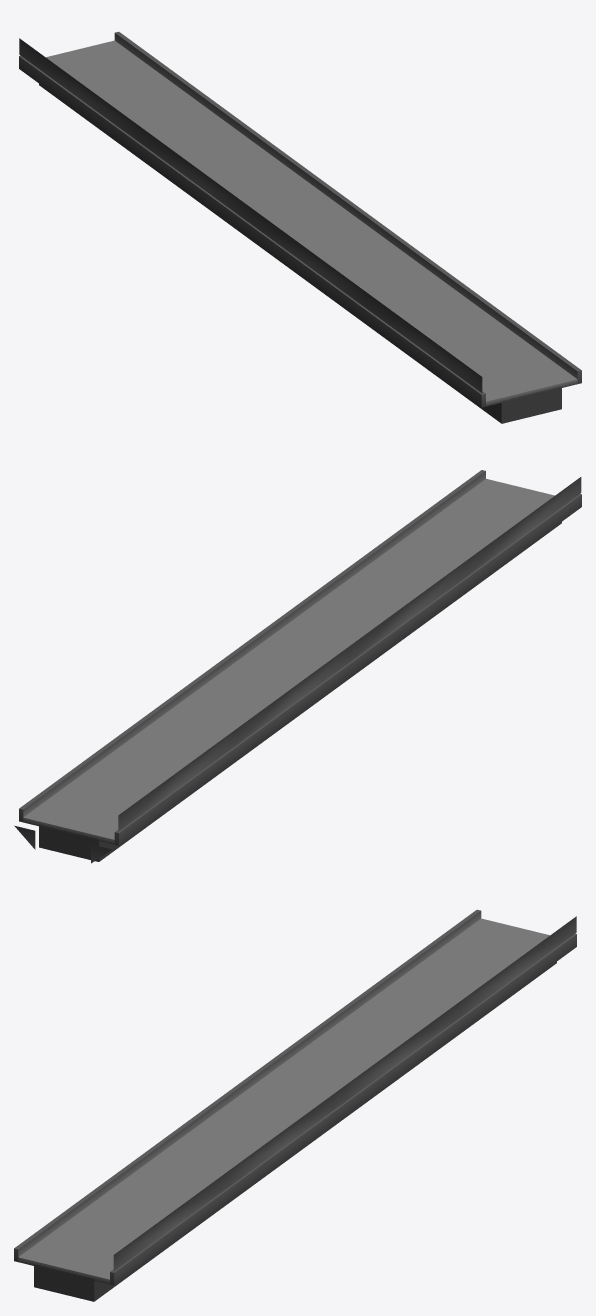
Rendered from KOUKA_CAR02.glb.
The picture shows the model from 3 angles, top to bottom: view 1: azimuth 30°, elevation 25°; view 2: azimuth 150°, elevation 25°; view 3: azimuth 330°, elevation 25°; orthographic projection.
Visible parts, largest first — view 1: Model; view 2: Model; view 3: Model.
Boxes of the visible parts, x1,y1,x2,y2 form: Model: (19, 31, 581, 423); Model: (19, 470, 581, 861); Model: (14, 909, 576, 1301).
Size of the model in its own units: 50 by 24.6 by 405.
9 materials, 9 textured.
